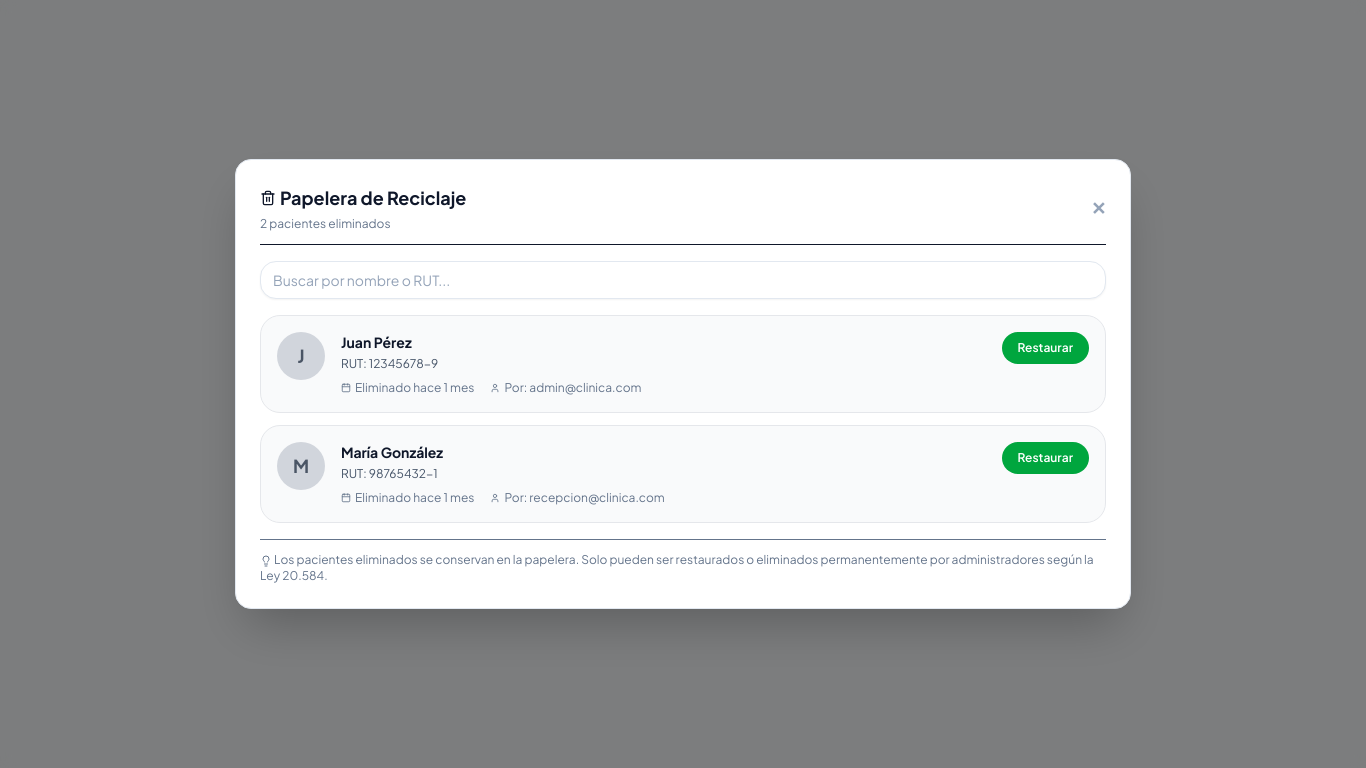
Test: ModalPapelera (F6-L) › filtra pacientes por búsqueda de nombre
Type "Juan" into the field with placeholder "Buscar por nombre o RUT...".
click(683, 280); type("Juan")  # box [260,261,1106,299]
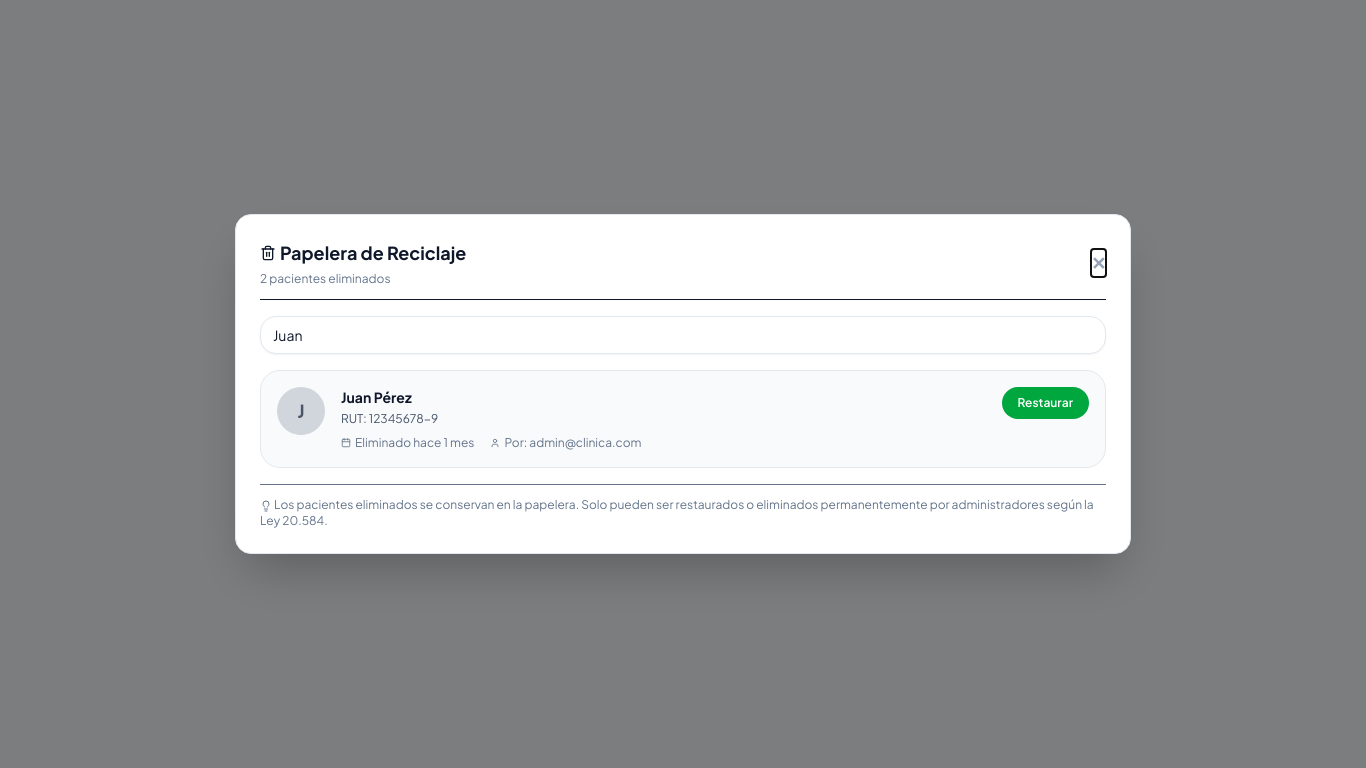
Expected: the heading "Juan Pérez" is shown, [341,388,412,406]
Now the heading "María González" is gone
